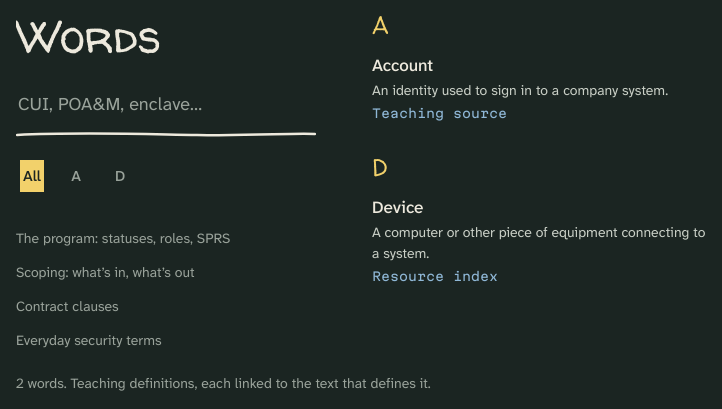
Test case: Glossary › searches title and definition conjunctively without navigation
Type "  ACCOUNT   company " into the search field named "Search words". click: (166, 104)
box: left=16, top=82, right=316, bottom=126
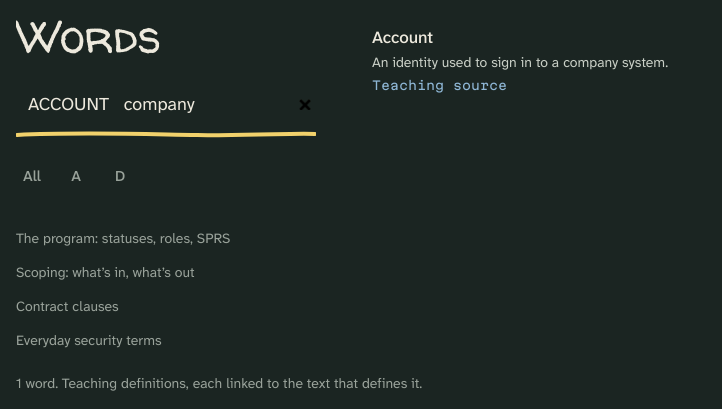
Now the heading "Device" is gone
Now the message named "Glossary search results" reads "1 word", box left=16, top=374, right=55, bottom=392
Now the element named "Search results" is shown, box left=372, top=26, right=686, bottom=92
